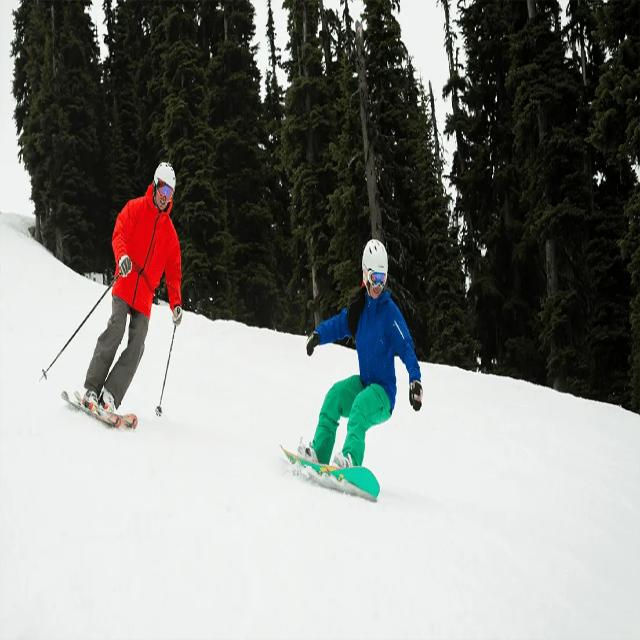skier: (40, 162, 183, 431)
snowboarder: (279, 238, 424, 505)
